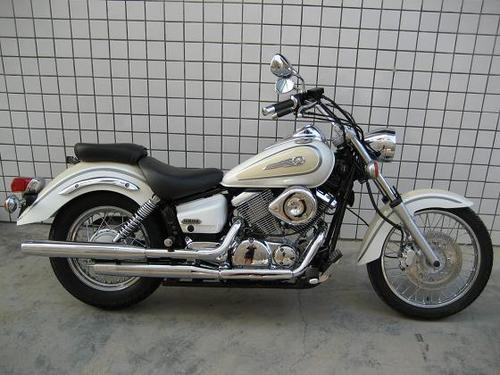motor: (25, 49, 480, 316)
